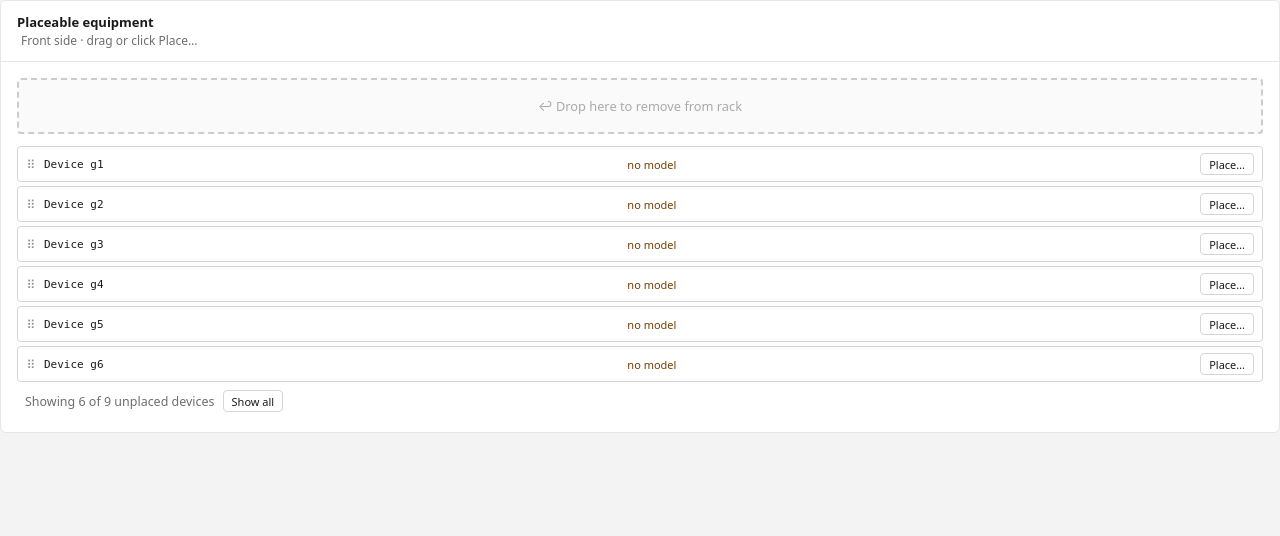
PlacementPalettePanel — device limit › Show all button reveals all devices
Click the button with test id "show-all-devices-btn".
click(253, 401)  # box x1=223 y1=390 x2=283 y2=412
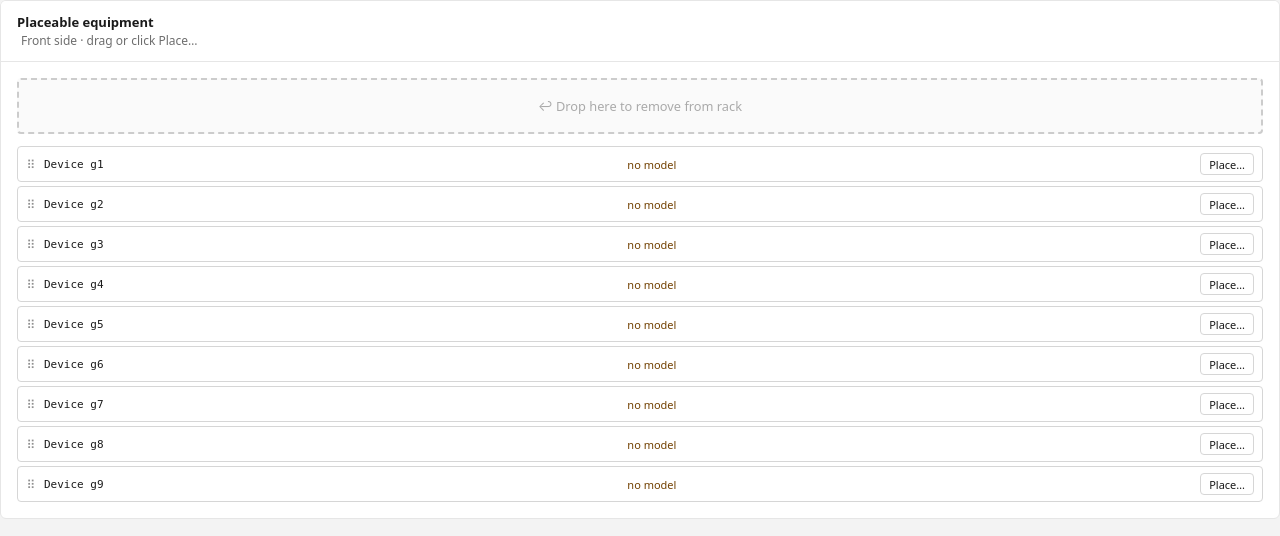
Now the element with test id "dnd-device-g9" is shown, box x1=17 y1=466 x2=1263 y2=502
Now the element with test id "palette-overflow-indicator" is gone
